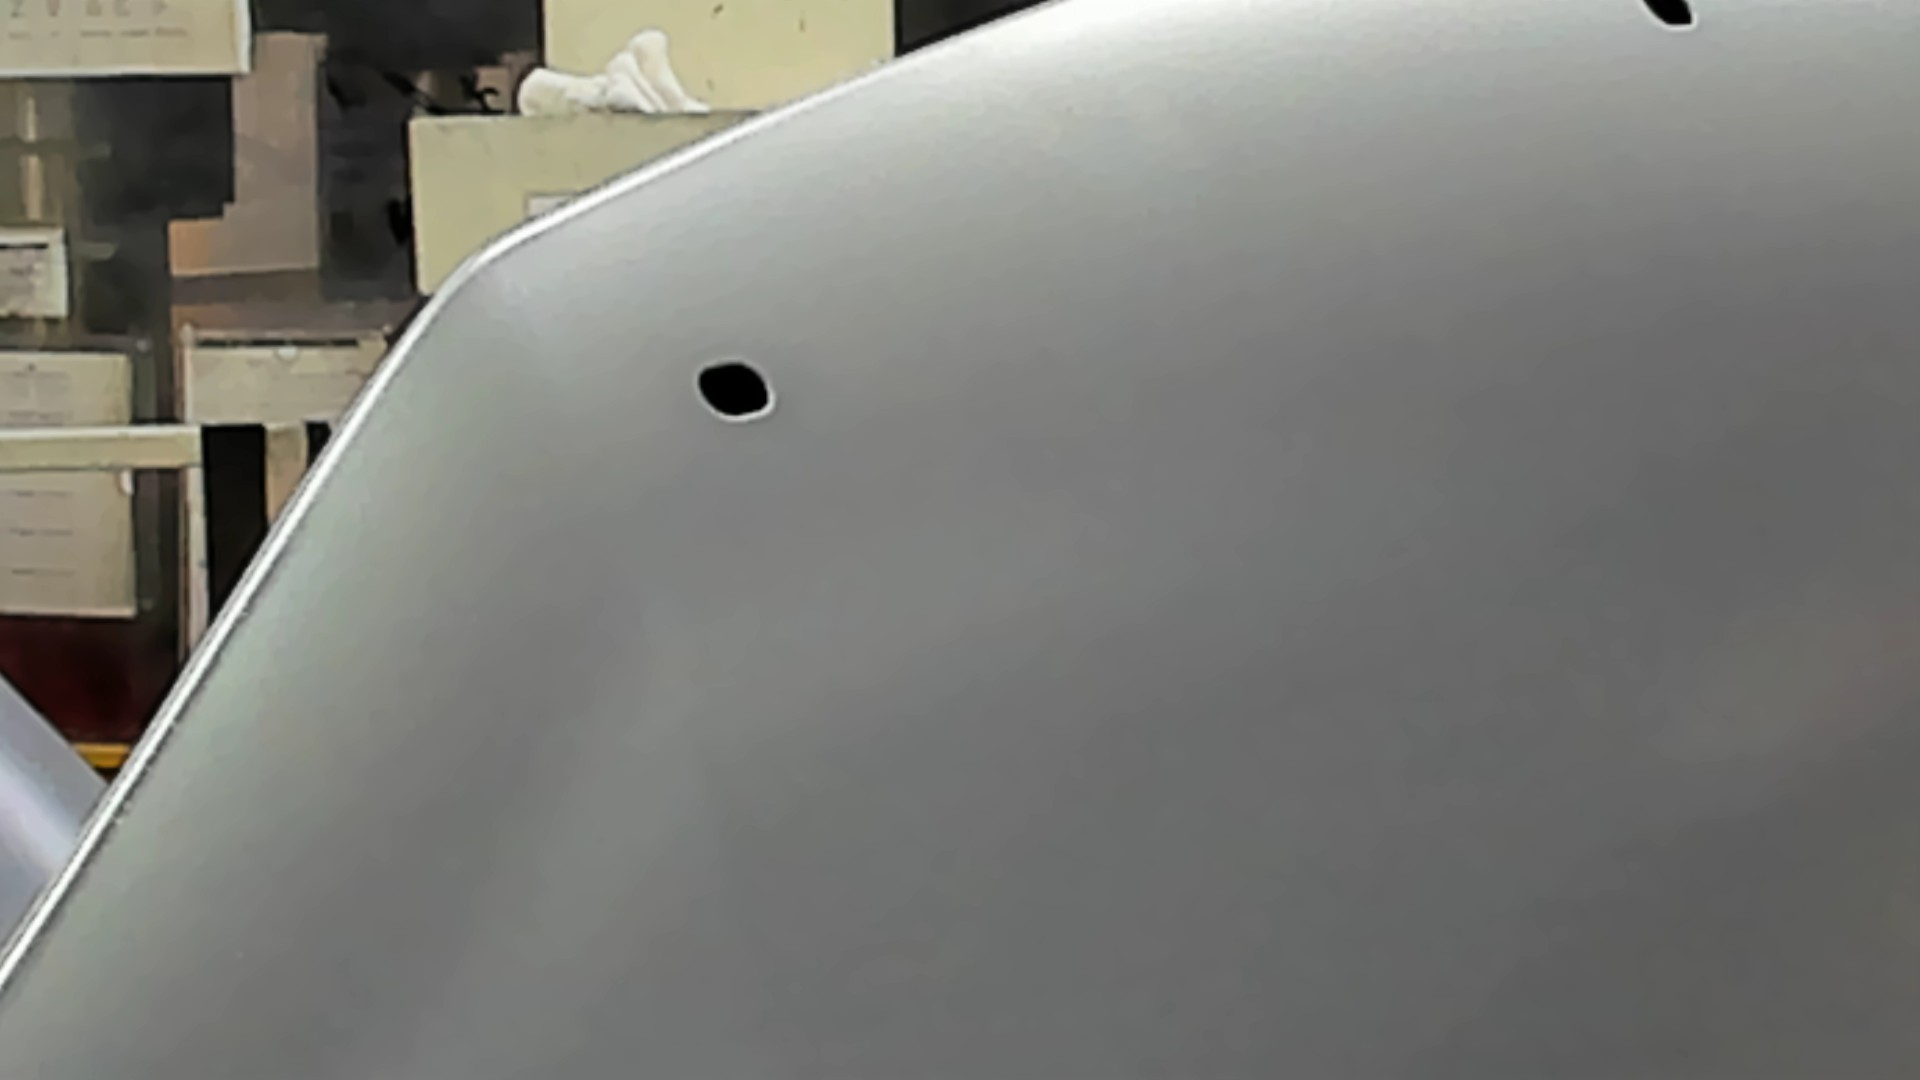amorfo: (684, 357, 787, 427), (1640, 1, 1698, 37)
